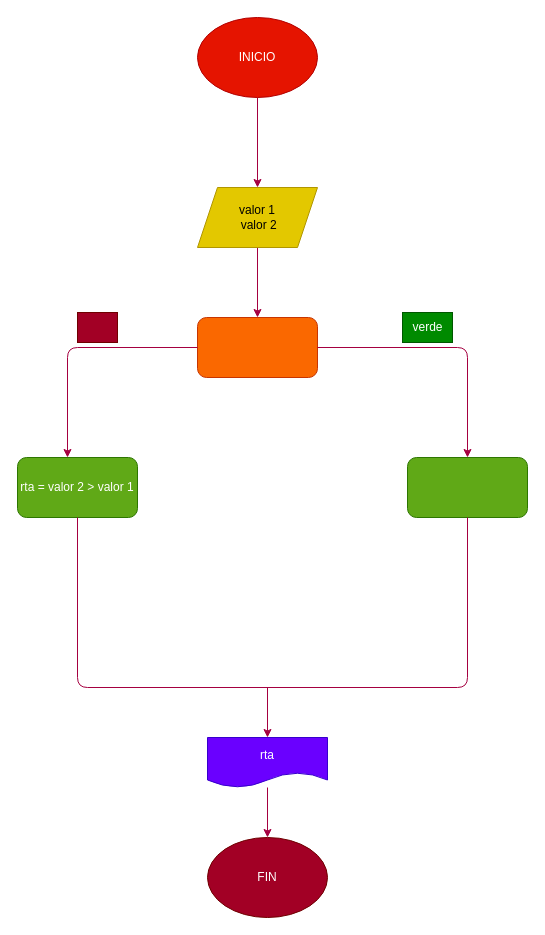
This 545x935 diagram has some shape labels left out. The centre of each missing label's shape, as x and y in pixels:
"rojo" belongs at [97,327].
"rta = valor 1 > valor 2" belongs at [467,487].
"valor 1 > valor 2" belongs at [257,347].
